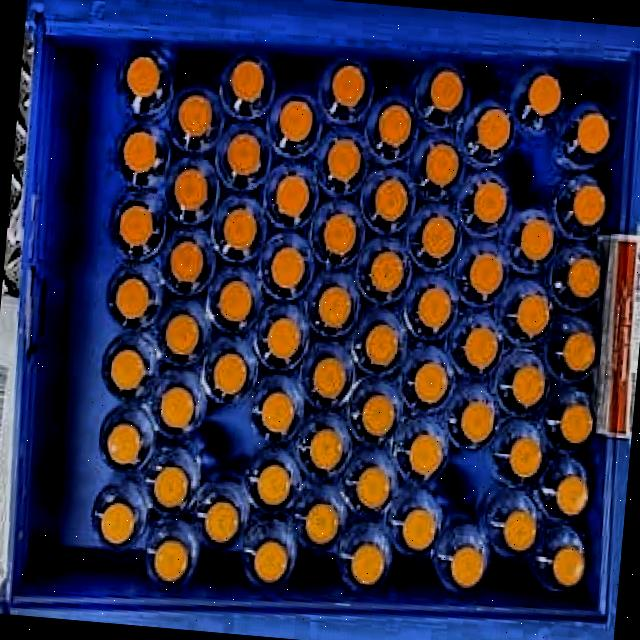vial: (124, 56, 163, 100), (353, 464, 391, 509), (211, 350, 248, 396), (164, 310, 201, 355), (468, 251, 505, 296), (228, 58, 264, 104), (332, 63, 368, 108), (177, 92, 212, 138), (109, 351, 147, 393), (104, 423, 142, 465), (215, 280, 253, 322), (460, 401, 496, 445), (270, 244, 306, 288), (327, 138, 361, 184), (305, 503, 341, 546), (571, 182, 607, 225), (364, 323, 399, 367), (223, 208, 258, 252), (101, 500, 136, 543), (451, 545, 486, 588), (402, 508, 437, 551), (502, 509, 537, 552), (463, 327, 498, 370), (413, 361, 448, 404), (374, 178, 409, 221), (475, 107, 510, 150), (323, 212, 358, 255), (115, 276, 149, 320), (160, 385, 194, 429), (351, 542, 385, 586), (568, 255, 602, 299), (425, 142, 459, 186), (528, 71, 562, 115), (429, 69, 463, 113), (369, 248, 402, 293), (170, 240, 207, 280), (153, 467, 188, 509), (205, 501, 240, 543), (561, 331, 596, 373), (516, 294, 551, 336), (473, 180, 508, 222), (278, 99, 313, 141), (123, 128, 157, 171), (559, 403, 593, 446), (408, 434, 444, 474), (513, 364, 545, 409), (417, 288, 452, 329), (226, 132, 261, 173), (154, 538, 188, 580), (555, 473, 589, 515), (421, 216, 455, 258), (361, 393, 394, 436), (577, 111, 610, 154), (379, 103, 411, 147), (254, 539, 288, 580), (261, 393, 295, 434), (309, 428, 343, 469), (552, 546, 585, 588), (312, 357, 345, 399), (318, 285, 351, 327), (521, 218, 554, 260), (121, 203, 153, 246), (267, 318, 301, 358), (275, 175, 309, 215), (174, 169, 207, 210), (508, 437, 541, 476), (259, 464, 290, 505)
